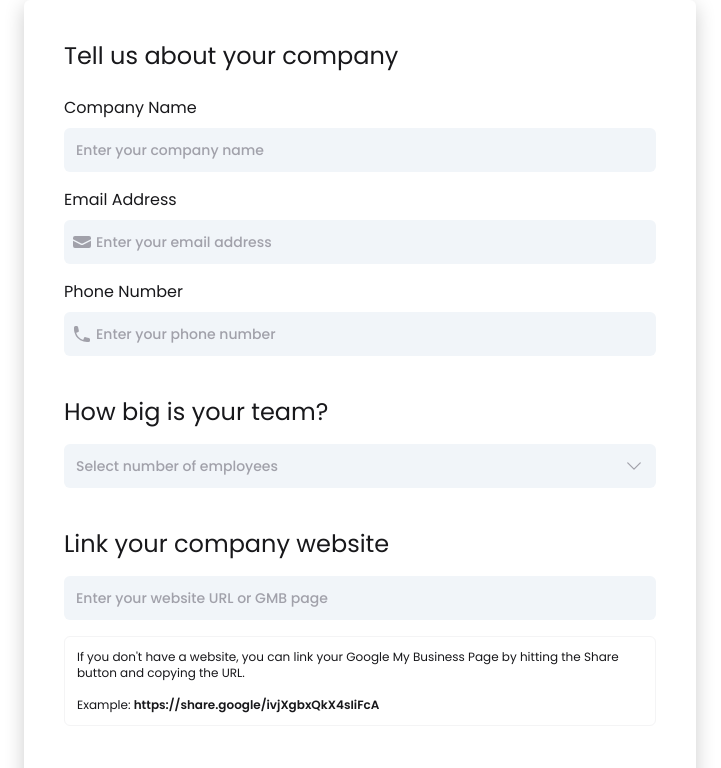
Scenario: MoverSignUpForm › User Interactions › handles employee count selection
// Find and click the select dropdown
Click the dropdown: (360, 466) top-left (64, 444), bottom-right (656, 488)
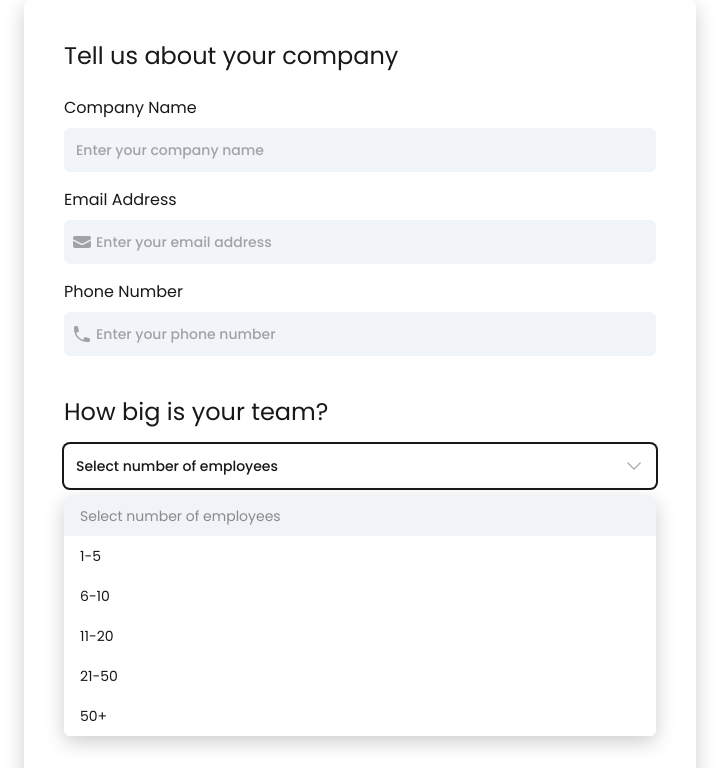
Check: the list is shown, box top-left (64, 496), bottom-right (656, 736)
Click the option "1-5": (90, 556) top-left (64, 536), bottom-right (656, 576)
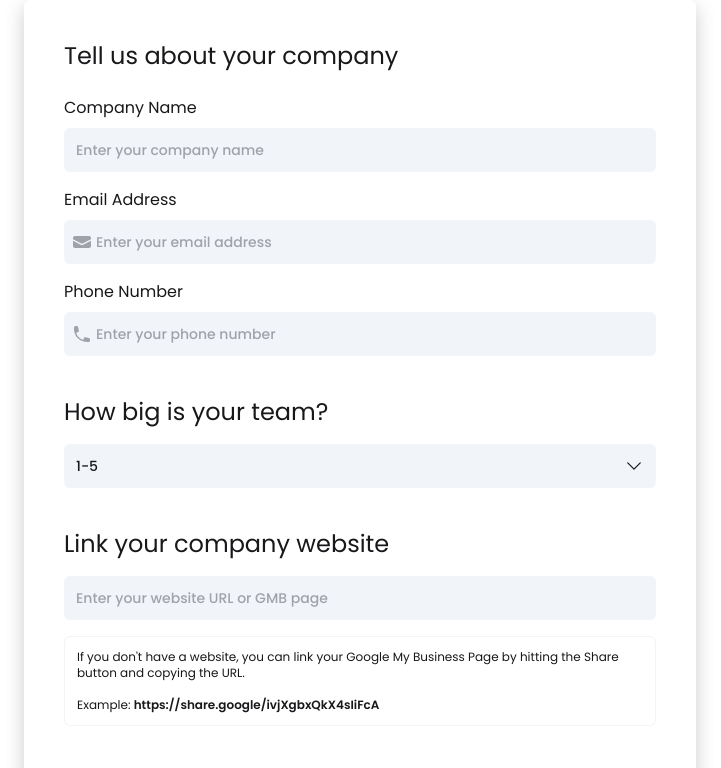
Check: the dropdown reads "1-5", box top-left (64, 444), bottom-right (656, 488)
